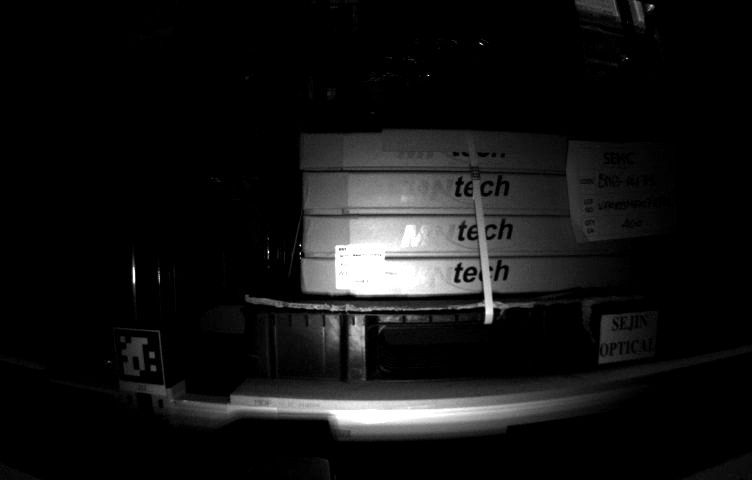True Barcode: (333, 242, 391, 290)
